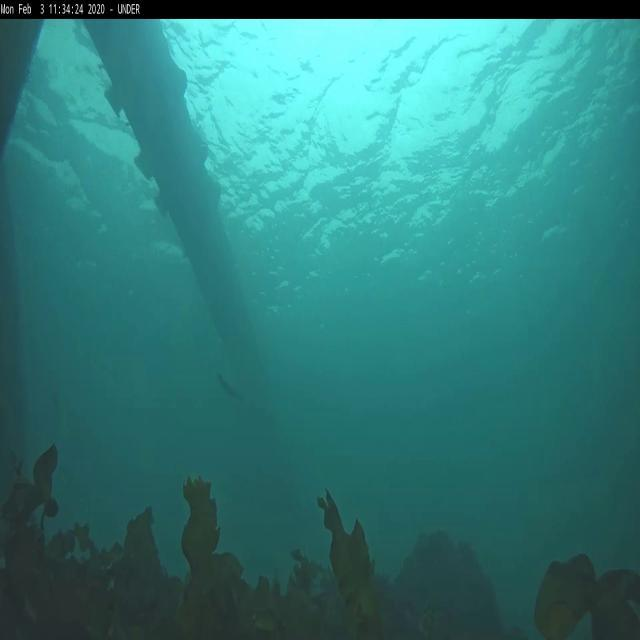fish: (214, 368, 242, 404)
